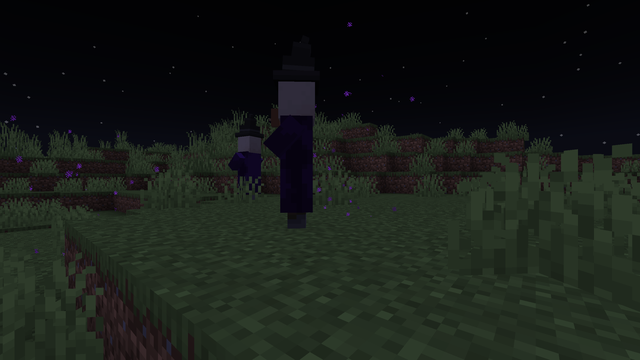sorcieres: (266, 69, 328, 230), (234, 132, 259, 201)
